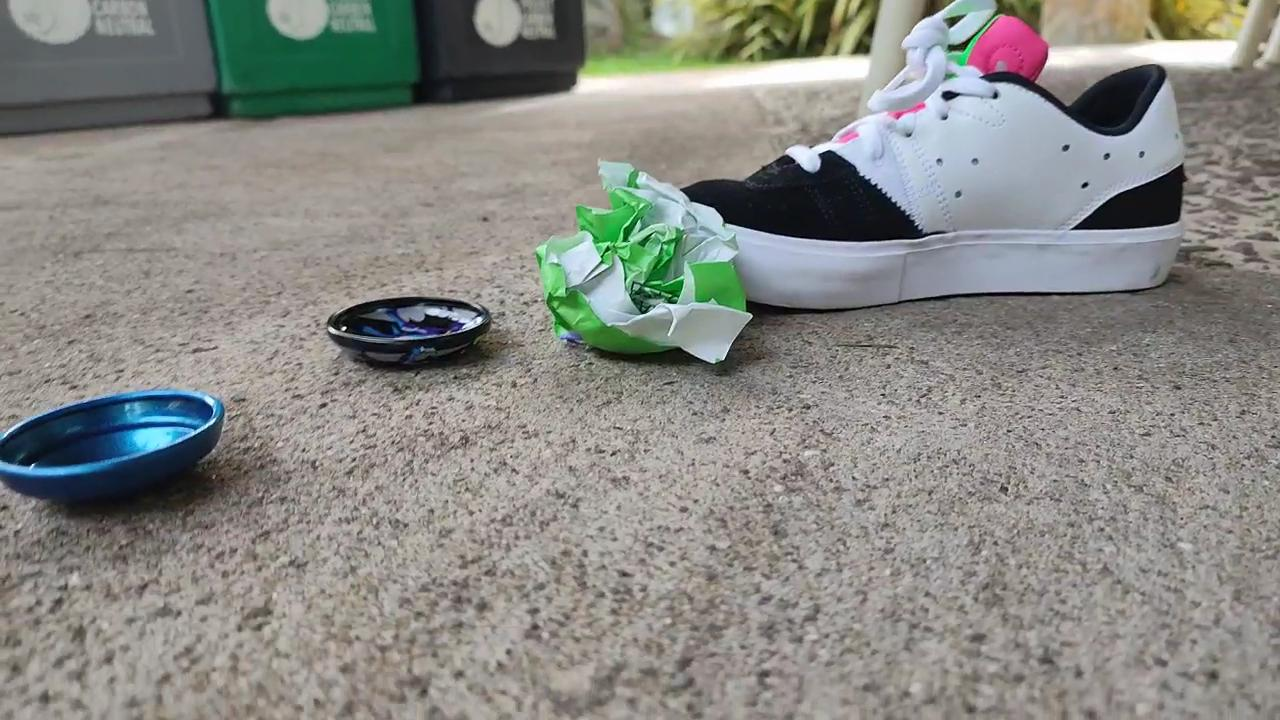Paper: (514, 149, 768, 376)
